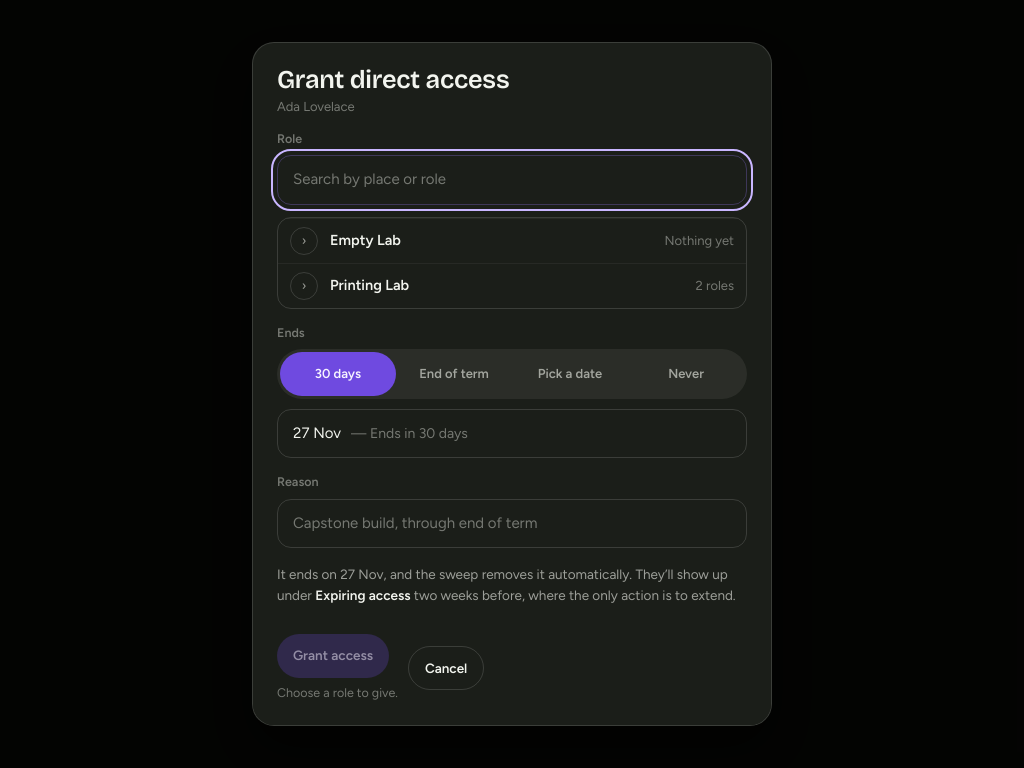
Test: GrantDirectAccess · choosing the role › is the role picker in single choice, with the operator's notes
Click the button "› Printing Lab 2 roles" at coordinates (370, 285), box left=278, top=264, right=746, bottom=308
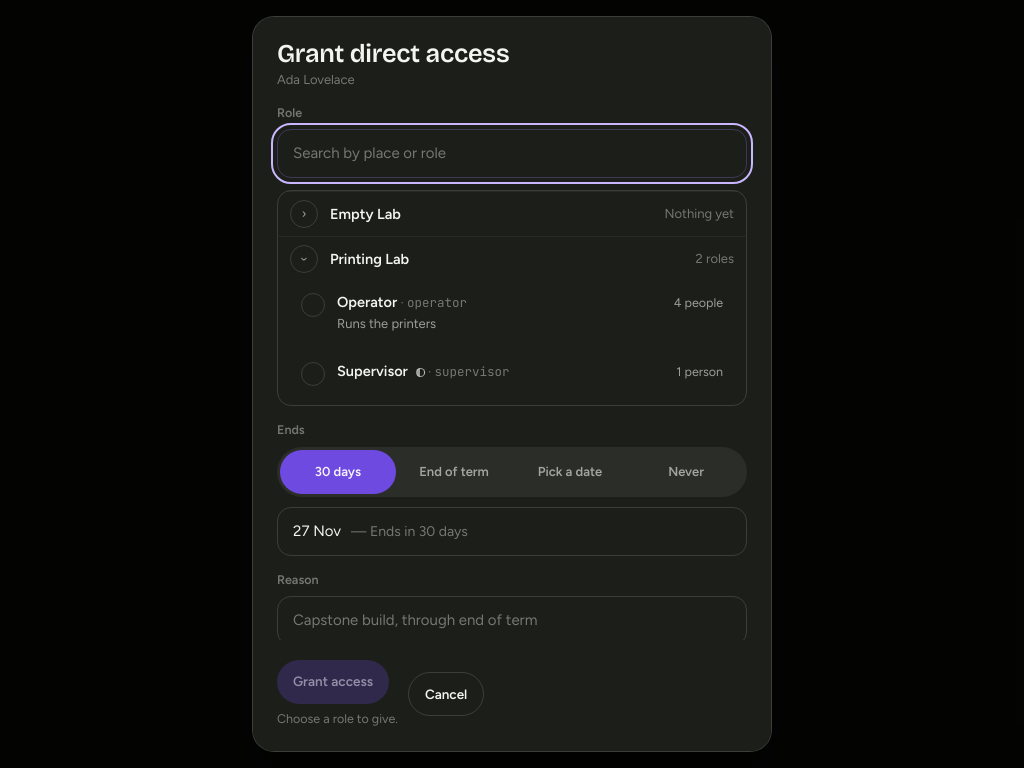
expect the text "operator" is shown: met, box left=407, top=294, right=467, bottom=311
expect the text "4 people" is shown: met, box left=674, top=294, right=723, bottom=312
expect the text "Runs the printers" is shown: met, box left=337, top=316, right=436, bottom=330
